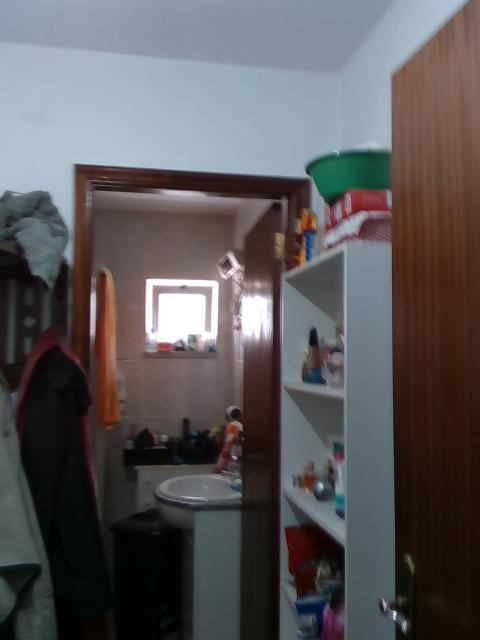open_door: (71, 162, 306, 639)
